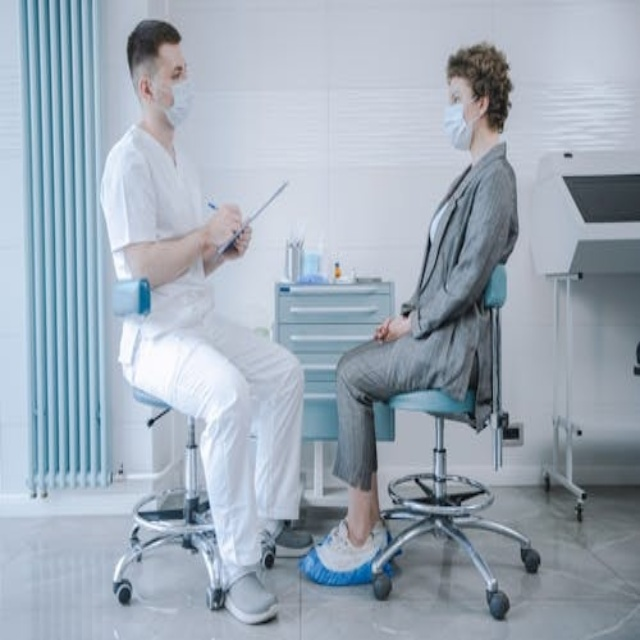Mascara: (151, 72, 195, 128), (442, 96, 481, 150)
Sin_gafas: (160, 58, 188, 82), (443, 83, 472, 104)
Sin_guantes: (207, 203, 248, 254), (375, 310, 412, 344)
